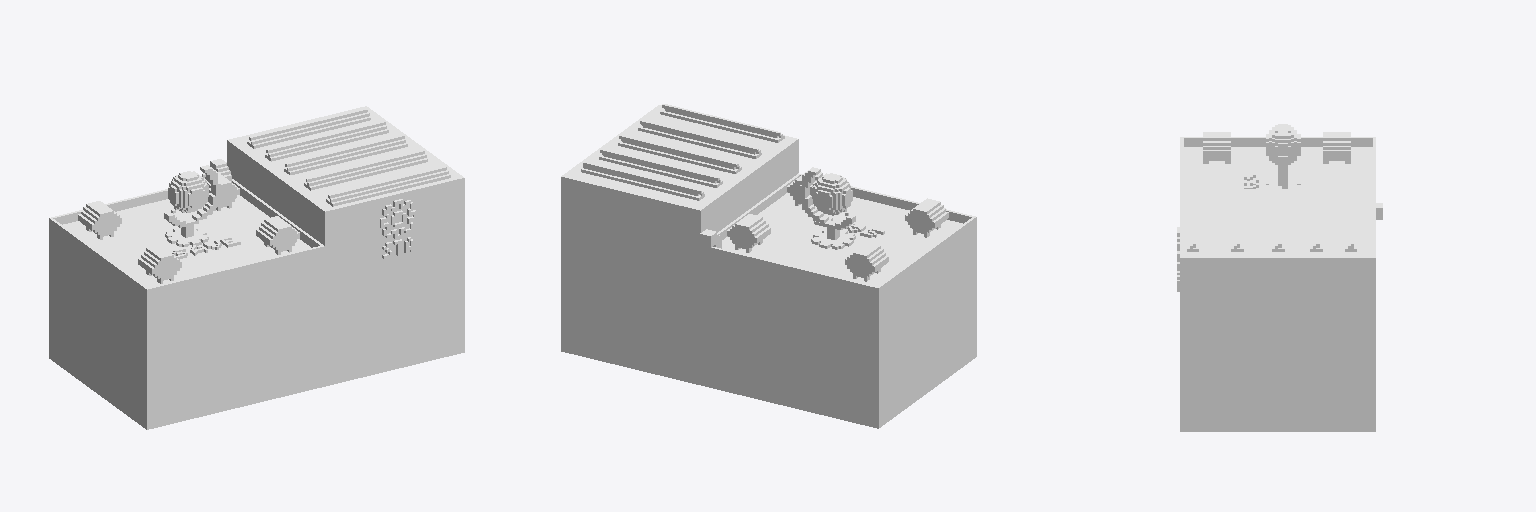
File: 0vijai.obj
3 views of the same model, side by side, from view 1: azimuth 30°, elevation 25°; view 2: azimuth 150°, elevation 25°; view 3: azimuth 270°, elevation 25° (orthographic).
Parts seen in each view (by area): view 1: object 1; view 2: object 1; view 3: object 1.
Boxes of the visible parts, box(x1,y1,x2,y2) form: object 1: box(49, 106, 464, 429); object 1: box(561, 104, 976, 428); object 1: box(1177, 124, 1382, 431).
Size of the model in its own units: 11.6 by 6.9 by 6.5.